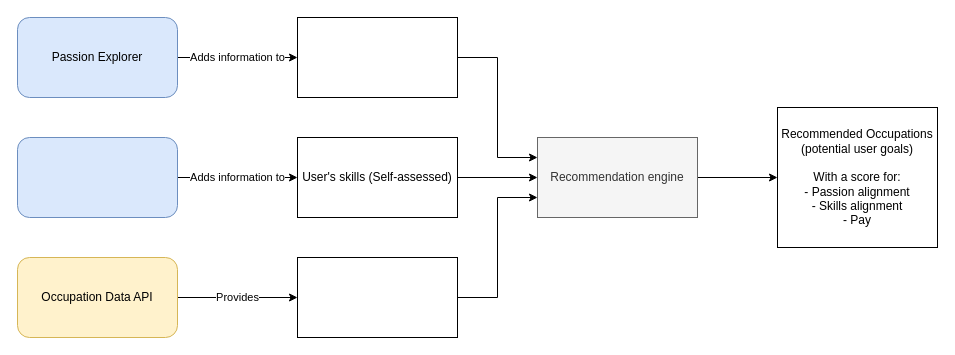
This 955x355 diagram has some shape labels left out. The box of each missing label's shape, as (x1, y1, x2, y2) in pixels:
Occupation data: (296, 256, 458, 338)
Skills Explorer: (16, 136, 178, 218)
User's passions/interests (Self-assessed): (296, 16, 458, 98)
